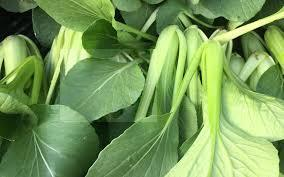Healthy-Pechay: (1, 6, 284, 177)
